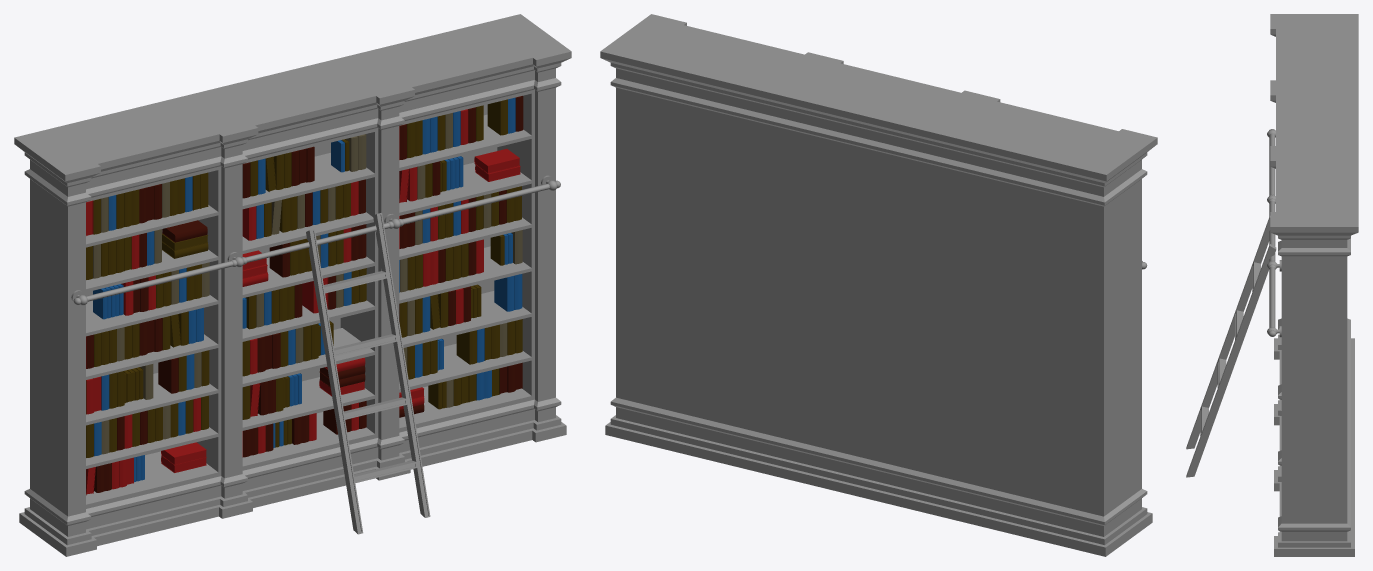
The model's file is SM_bookcase_03.FBX.
The picture shows the model from 3 angles, left to right: view 1: azimuth 30°, elevation 25°; view 2: azimuth 150°, elevation 25°; view 3: azimuth 270°, elevation 25°; orthographic projection. The views are drawn at different scales.
Visible parts, largest first — view 1: bookcase_03; view 2: bookcase_03; view 3: bookcase_03.
Boxes of the visible parts, x1=… form: bookcase_03: x1=14, y1=14, x2=571, y2=556; bookcase_03: x1=600, y1=14, x2=1157, y2=556; bookcase_03: x1=1186, y1=14, x2=1358, y2=556.
Size of the model in its own units: 273 by 198 by 93.38.
